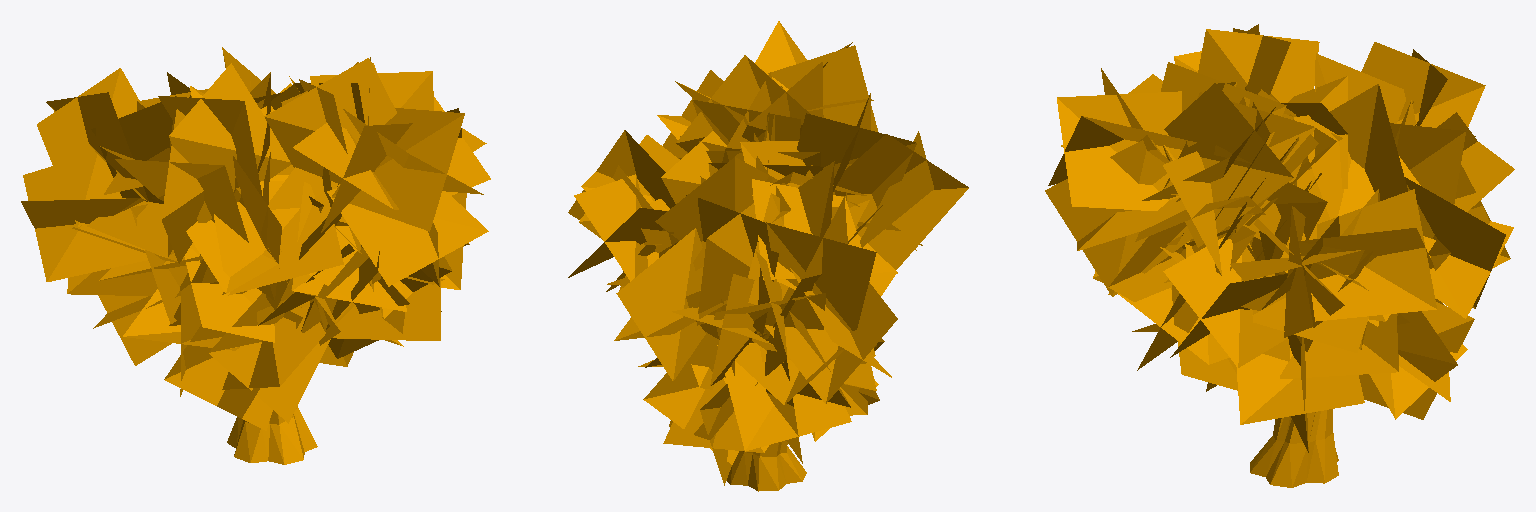
robot.urdf — tree_a:
<?xml version="1.0" ?>

<robot name="tree_a">

  <link name="tree_link">
    
    <inertial>
      <origin xyz="0 0 0" /> 
      <mass value="1.0" />
      <inertia  ixx="1.0" ixy="0.0"  ixz="0.0"  iyy="100.0"  iyz="0.0"  izz="1.0" />
    </inertial>
    
    <visual>
      <origin xyz="0 0 0"/>
      <geometry>
        <mesh filename="package://rosbombeiros_simulator/meshes/nature/tree_k.stl" />
      </geometry>
    </visual>
    
    <collision>
      <origin xyz="0 0 0"/>
      <geometry>
        <!-- TODO: create a bounding mesh -->
        <mesh filename="package://rosbombeiros_simulator/meshes/nature/tree_k.stl" />
      </geometry>
    </collision>
    
  </link>

</robot>

--- Render facts (derived) ---
3 views of the same robot in one strip: view 1: azimuth 30°, elevation 25°; view 2: azimuth 150°, elevation 25°; view 3: azimuth 270°, elevation 25° (orthographic).
Model tree_a with 1 links and 0 joints (none), rooted at tree_link, posed all joints at 0.
Visible links, largest first — view 1: tree_link; view 2: tree_link; view 3: tree_link.
Link boxes in pixels (x1,y1,x2,y2): tree_link: (21, 47, 490, 464); tree_link: (568, 21, 968, 491); tree_link: (1045, 24, 1514, 487).
Size in the robot's own frame: 8.06 by 8.05 by 7.84 metres.
Meshes: 1 distinct files referenced, 1 mesh visuals loaded (1 binary STL).
